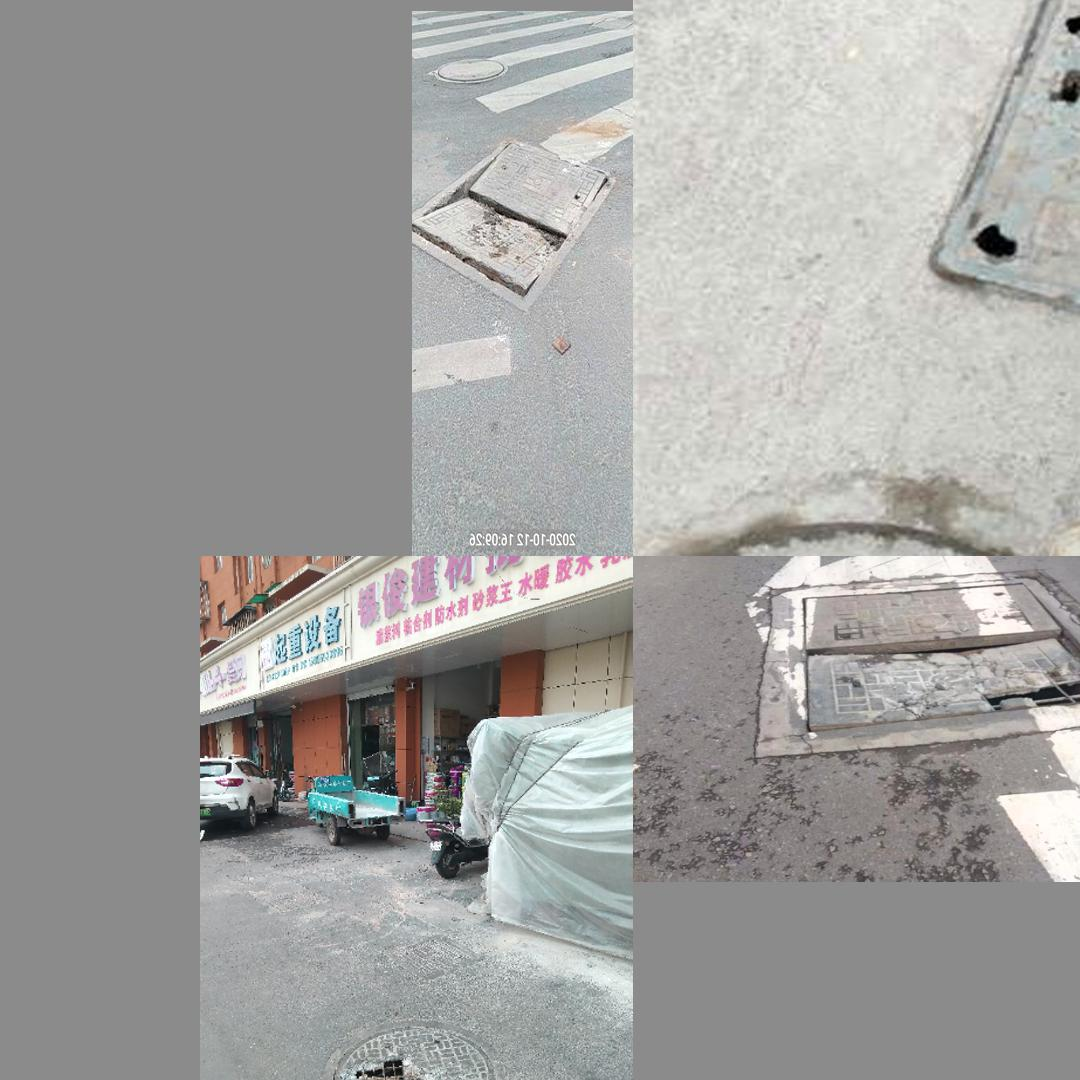broke: (919, 0, 1080, 356), (762, 577, 1080, 754), (416, 110, 614, 322), (321, 1020, 506, 1080)
